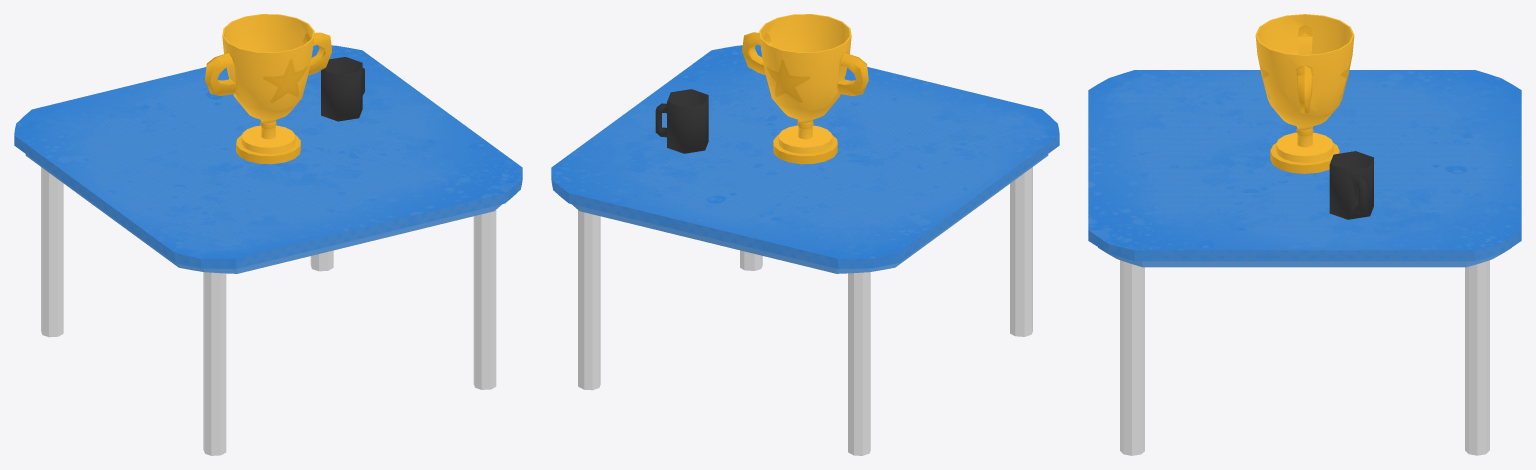
Rendered from subway_surfers_styled_trophy_table_and_mug.glb.
The picture shows the model from 3 angles, left to right: view 1: azimuth 30°, elevation 25°; view 2: azimuth 150°, elevation 25°; view 3: azimuth 270°, elevation 25°; orthographic projection. The views are drawn at different scales.
Parts seen in each view (by area): view 1: Table, Trophy, Cylinder; view 2: Table, Trophy, Cylinder; view 3: Table, Trophy, Cylinder.
Boxes of the visible parts, x1,y1,x2,y2 form: Table: [14, 45, 522, 455]; Trophy: [205, 14, 331, 164]; Cylinder: [321, 57, 364, 121]; Table: [551, 44, 1059, 455]; Trophy: [742, 14, 868, 164]; Cylinder: [655, 89, 708, 153]; Table: [1088, 70, 1521, 455]; Trophy: [1255, 14, 1354, 173]; Cylinder: [1329, 151, 1373, 219].
Size of the model in its own units: 1.74 by 1.56 by 1.77.
Materials: 1 (1 with a texture image).
